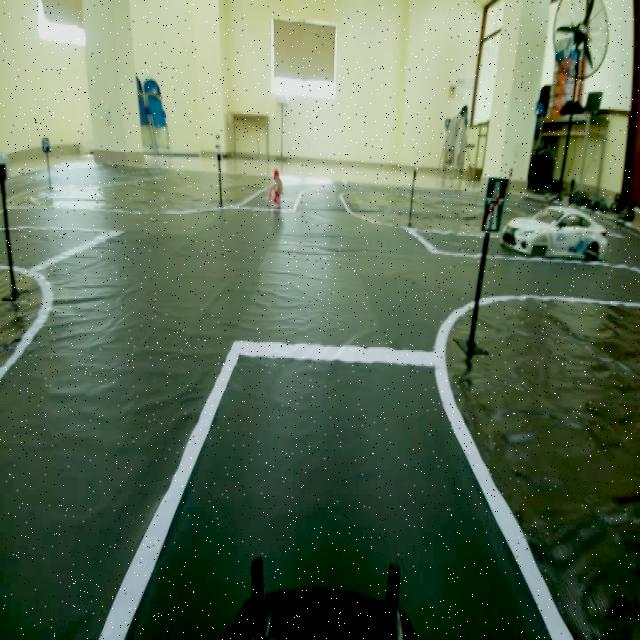highway_exit: (478, 169, 508, 232)
